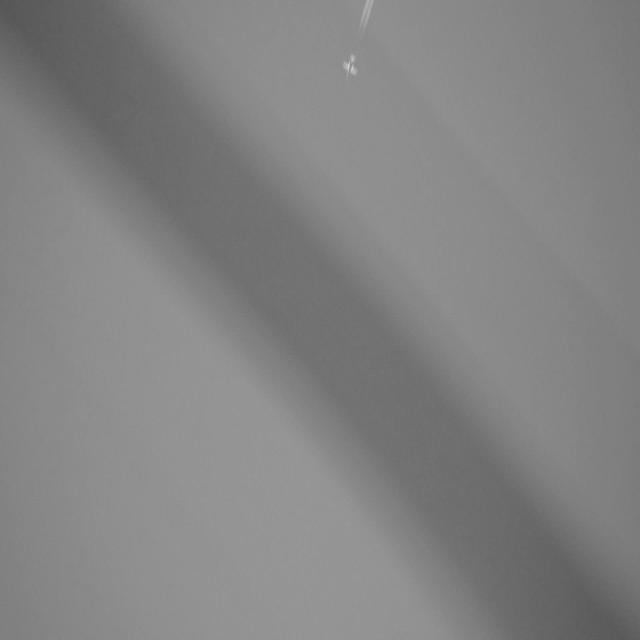aeroplane: (341, 49, 361, 89)
